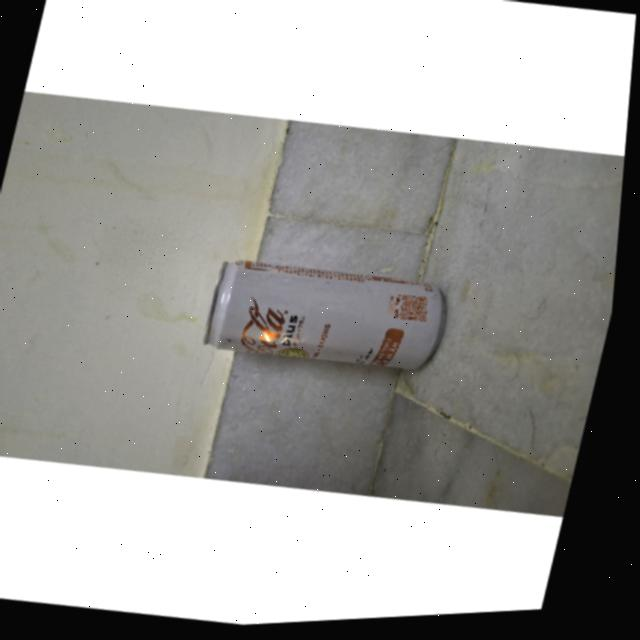Coca Cola Plus: (200, 230, 469, 402)
